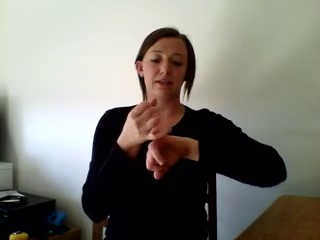S: (123, 96, 192, 183)
